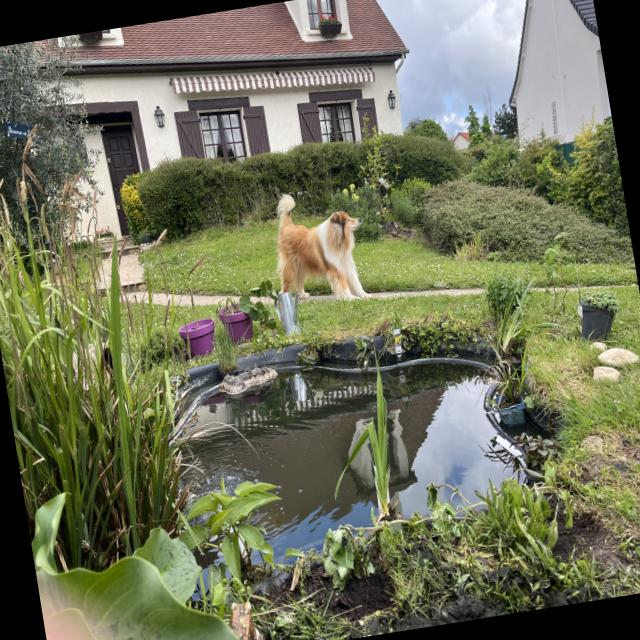Dog: (257, 174, 383, 327)
